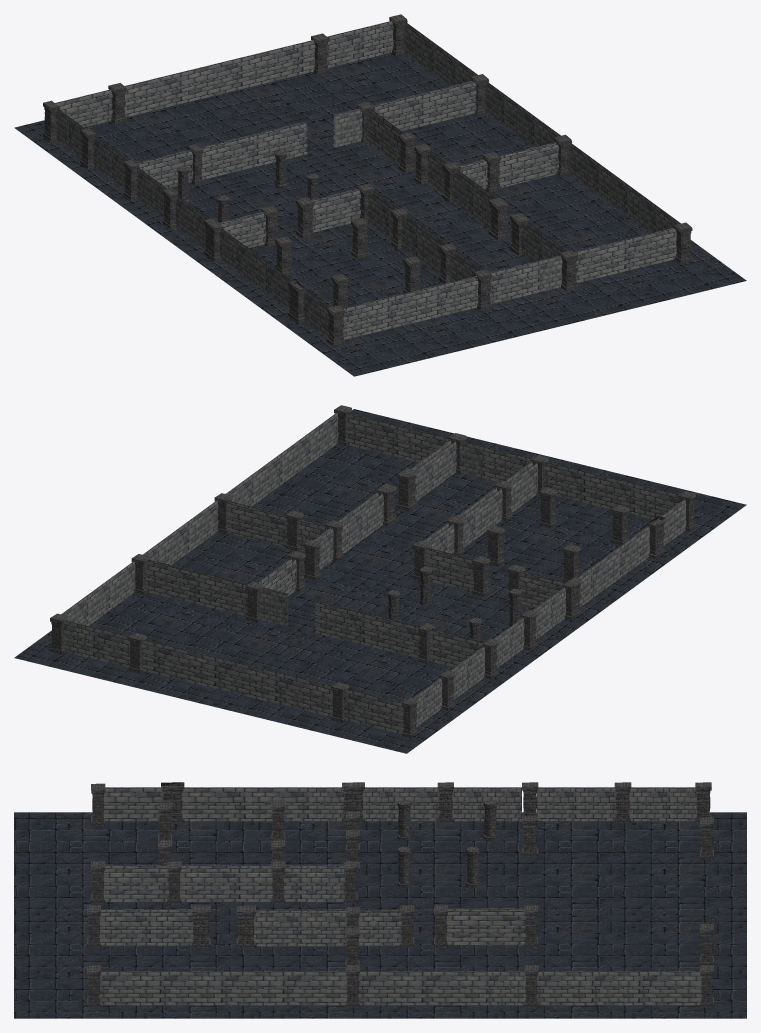
The model's file is level.glb.
The picture shows the model from 3 angles, top to bottom: view 1: azimuth 30°, elevation 25°; view 2: azimuth 150°, elevation 25°; view 3: azimuth 270°, elevation 25°; orthographic projection. The views are drawn at different scales.
Visible parts, largest first — view 1: pPlane182, pPlane183, pPlane181, pPlane180, pPlane184, pPlane185, pPlane144, pPlane143, pPlane142, pPlane174, pPlane153, pPlane168 (+45 smaller); view 2: pPlane180, pPlane185, pPlane182, pPlane183, pPlane181, pPlane184, pPlane143, pPlane144, pPlane141, pPlane173, pPlane142, pPlane154 (+43 smaller); view 3: pPlane185, pPlane180, pPlane183, pPlane184, pPlane182, pPlane181, pPlane176, pPlane124, pPlane123, pPlane122, pPlane110, pPlane106 (+58 smaller).
Part boxes in pixels (box(x1,y1,x2,y2)): pPlane182: box(446, 203, 746, 328); pPlane183: box(241, 252, 550, 376); pPlane181: box(324, 120, 610, 243); pPlane180: box(228, 52, 496, 162); pPlane184: box(128, 163, 408, 293); pPlane185: box(14, 92, 323, 210); pPlane144: box(242, 42, 302, 88); pPlane143: box(181, 57, 241, 103); pPlane142: box(124, 72, 181, 116); pPlane174: box(498, 144, 558, 187); pPlane153: box(201, 134, 257, 179); pPlane168: box(422, 81, 476, 125); pPlane180: box(14, 592, 314, 705); pPlane185: box(211, 629, 519, 753); pPlane182: box(264, 409, 549, 537); pPlane183: box(466, 457, 746, 587); pPlane181: box(172, 497, 427, 620); pPlane184: box(345, 547, 633, 670); pPlane143: box(215, 657, 275, 703); pPlane144: box(154, 642, 214, 688); pPlane141: box(344, 689, 403, 733); pPlane173: box(227, 503, 287, 546); pPlane142: box(276, 672, 332, 716); pPlane154: box(364, 613, 420, 658); pPlane185: box(502, 812, 746, 915); pPlane180: box(502, 915, 746, 1018); pPlane183: box(14, 812, 258, 915); pPlane184: box(258, 821, 502, 915); pPlane182: box(14, 915, 258, 1018); pPlane181: box(258, 915, 502, 1018); pPlane176: box(446, 910, 525, 944); pPlane124: box(422, 971, 486, 1005); pPlane123: box(358, 971, 422, 1005); pPlane122: box(283, 971, 347, 1005); pPlane110: box(103, 868, 168, 901); pPlane106: box(181, 787, 244, 821).
Bounding box in the file's own units: 43.41 × 3.72 × 65.12.
4 materials, 4 textured.
